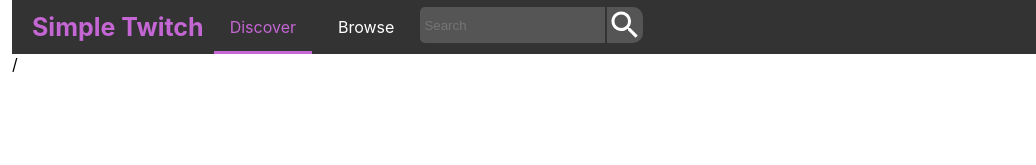
Test: NavBarCont › navigates to a category result and closes the dropdown
Step 1. Type "min" into the field with placeholder "Search" → (513, 25), box [420, 7, 605, 43]
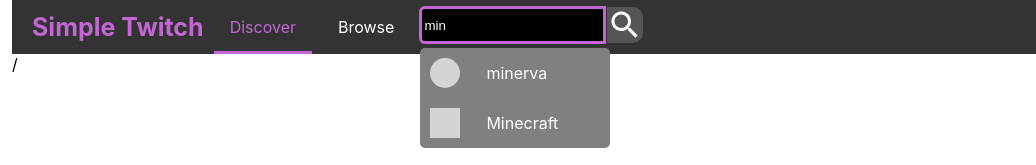
Step 2. Click the link "Minecraft" → (522, 123), box [486, 113, 558, 133]
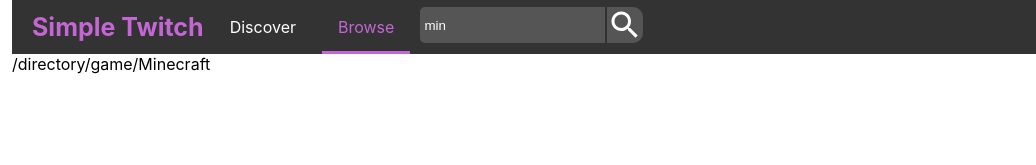
Result: the text with test id "location" reads "/directory/game/Minecraft" at [12, 54, 210, 74]
